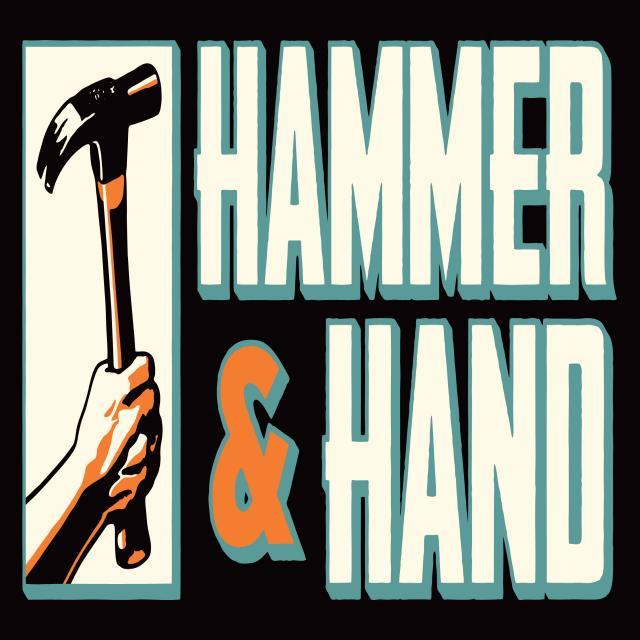hammer: (33, 58, 164, 572)
